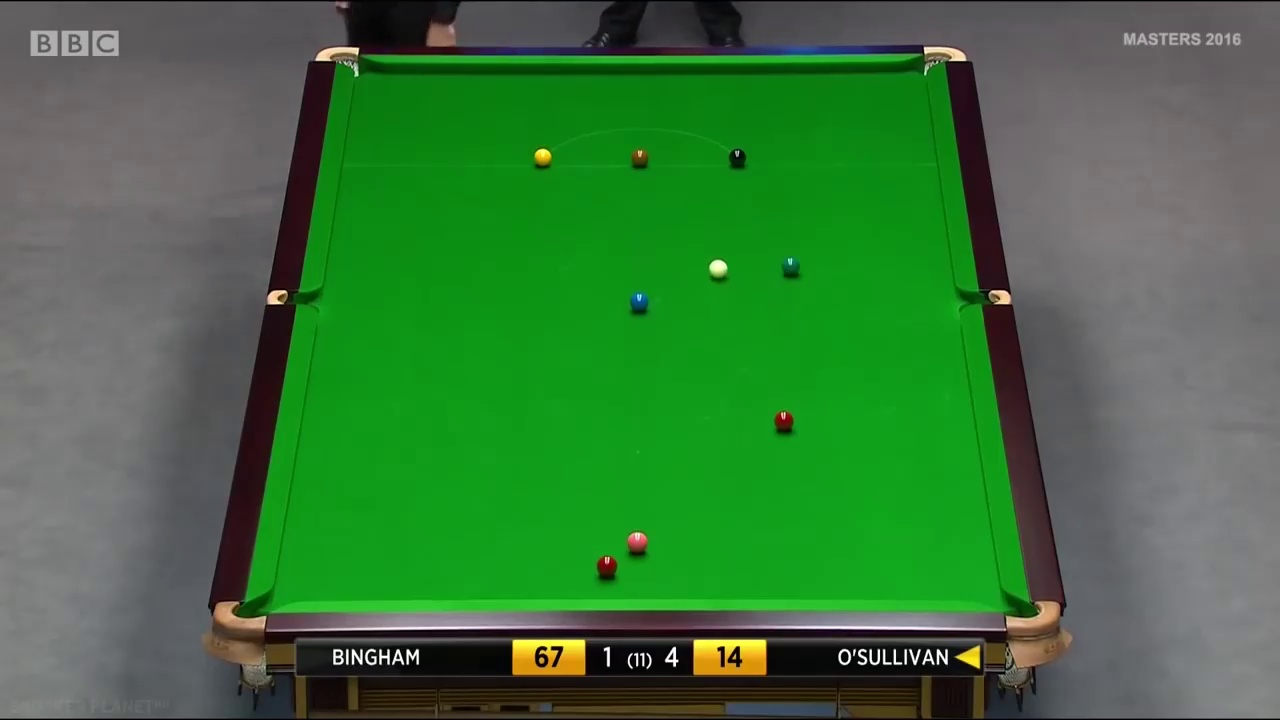ball: (625, 530, 647, 554), (593, 557, 620, 576), (707, 258, 729, 280), (772, 408, 793, 431), (780, 254, 800, 278), (628, 292, 650, 311), (630, 150, 649, 168), (728, 149, 746, 168), (535, 148, 552, 167)
